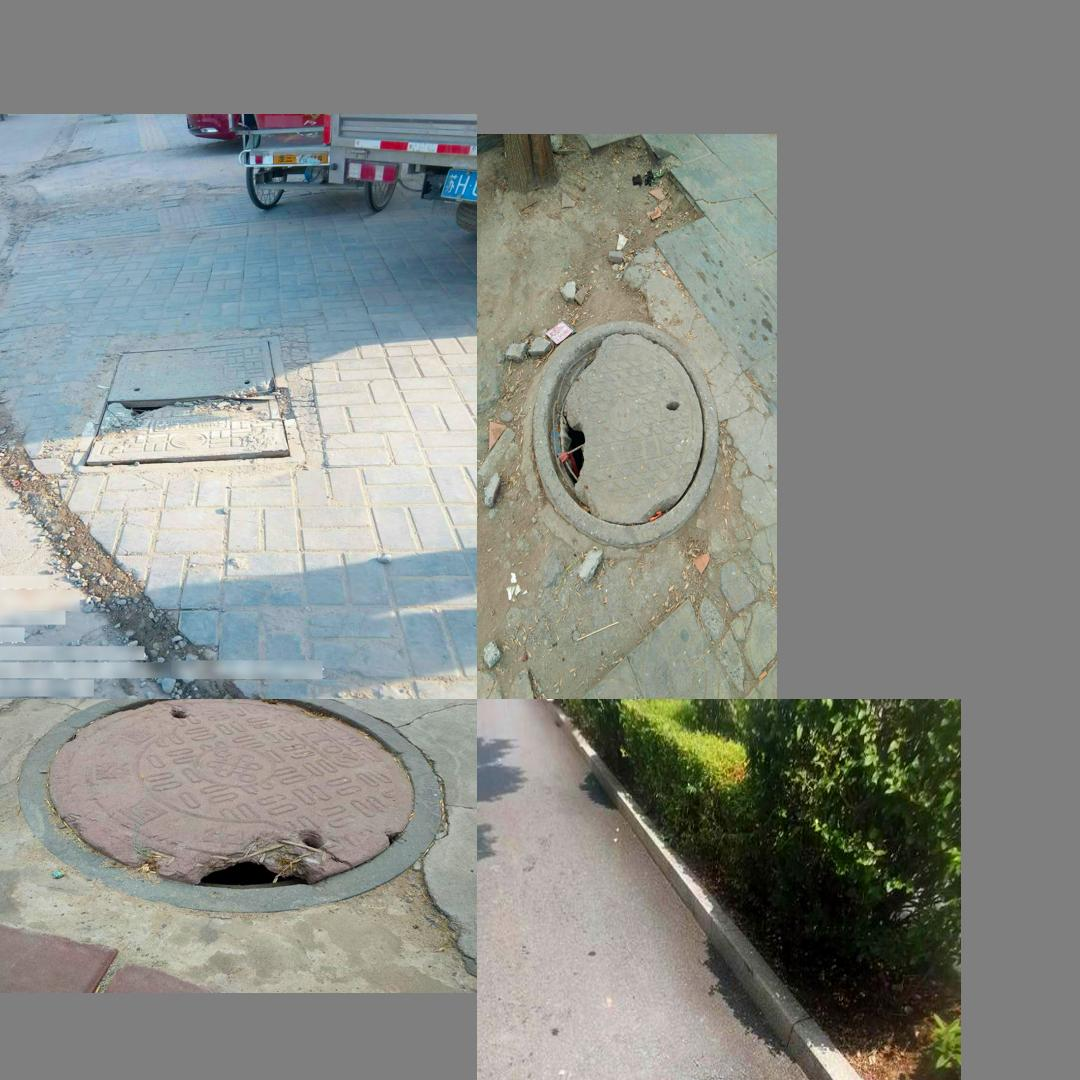broke: (26, 700, 447, 909), (532, 320, 719, 551), (107, 347, 291, 456), (614, 1072, 817, 1080)
